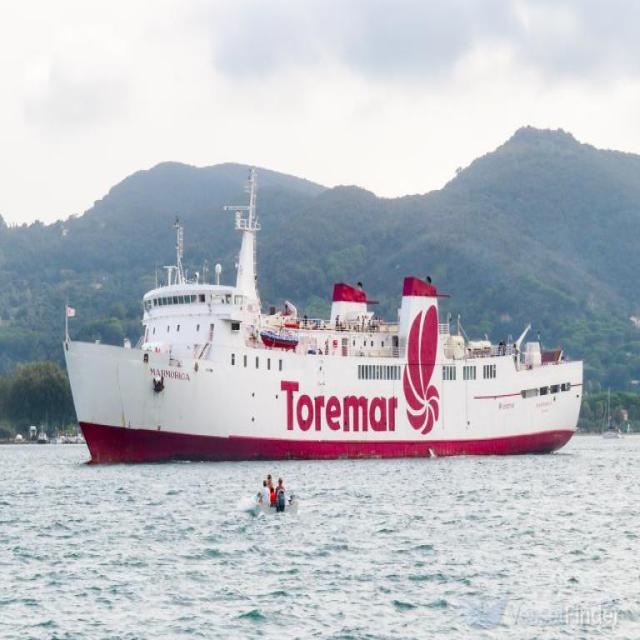PassengerShip: (34, 186, 611, 524)
